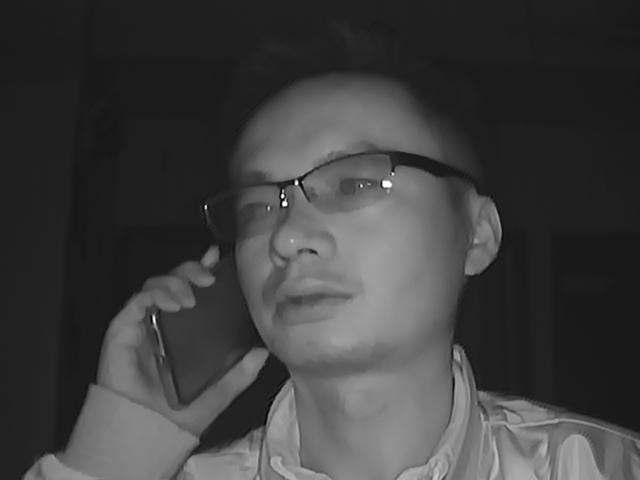hand: (100, 250, 231, 416)
